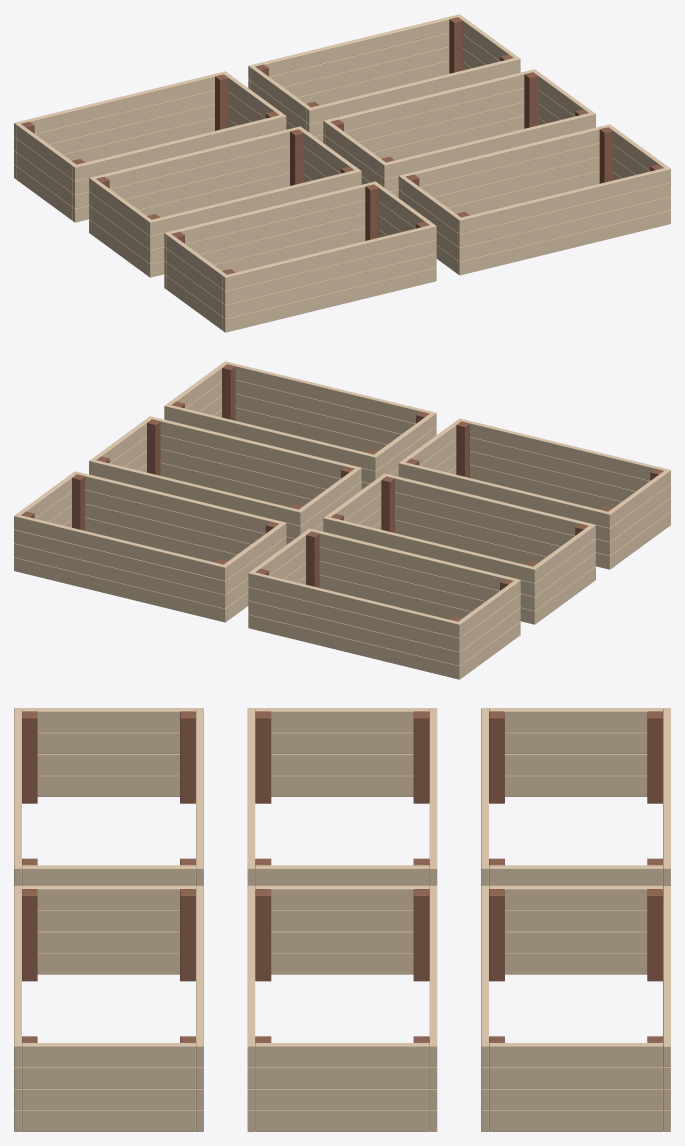
Rendered from Garden_Beds_01.glb.
3 renders of one model, top to bottom at view 1: azimuth 30°, elevation 25°; view 2: azimuth 150°, elevation 25°; view 3: azimuth 270°, elevation 25°, orthographic. The views are drawn at different scales.
Parts seen in each view (by area): view 1: 2x6in Board.294, 2x6in Board.278, 2x6in Board.310, 2x6in Board.326, 2x6in Board.342, 2x6in Board.262, 2x6in Board.328, 2x6in Board.264, 2x6in Board.296, 2x6in Board.312, 2x6in Board.280, 2x6in Board.344 (+54 smaller); view 2: 2x6in Board.280, 2x6in Board.264, 2x6in Board.312, 2x6in Board.328, 2x6in Board.296, 2x6in Board.344, 2x6in Board.310, 2x6in Board.326, 2x6in Board.294, 2x6in Board.342, 2x6in Board.262, 2x6in Board.278 (+54 smaller); view 3: 2x6in Board.329, 2x6in Board.313, 2x6in Board.345, 2x6in Board.317, 2x6in Board.321, 2x6in Board.325, 2x6in Board.327, 2x6in Board.311, 2x6in Board.343, 2x6in Board.305, 2x6in Board.337, 2x6in Board.301 (+51 smaller).
Boxes of the visible parts, bbox=[...] form: 2x6in Board.294: bbox=[72, 114, 286, 180]; 2x6in Board.278: bbox=[147, 169, 361, 235]; 2x6in Board.310: bbox=[457, 167, 670, 233]; 2x6in Board.326: bbox=[382, 112, 595, 178]; 2x6in Board.342: bbox=[307, 57, 520, 123]; 2x6in Board.262: bbox=[223, 224, 436, 290]; 2x6in Board.328: bbox=[323, 69, 536, 135]; 2x6in Board.264: bbox=[164, 181, 377, 247]; 2x6in Board.296: bbox=[14, 71, 227, 137]; 2x6in Board.312: bbox=[398, 124, 611, 190]; 2x6in Board.280: bbox=[89, 126, 302, 192]; 2x6in Board.344: bbox=[248, 14, 461, 80]; 2x6in Board.280: bbox=[323, 516, 537, 583]; 2x6in Board.264: bbox=[398, 461, 612, 527]; 2x6in Board.312: bbox=[164, 404, 377, 470]; 2x6in Board.328: bbox=[89, 459, 302, 525]; 2x6in Board.296: bbox=[248, 571, 461, 637]; 2x6in Board.344: bbox=[14, 514, 227, 580]; 2x6in Board.310: bbox=[223, 361, 436, 427]; 2x6in Board.326: bbox=[148, 416, 361, 482]; 2x6in Board.294: bbox=[307, 528, 520, 595]; 2x6in Board.342: bbox=[73, 471, 286, 537]; 2x6in Board.262: bbox=[457, 418, 670, 485]; 2x6in Board.278: bbox=[382, 473, 595, 539]; 2x6in Board.329: bbox=[255, 1043, 429, 1067]; 2x6in Board.313: bbox=[22, 1043, 195, 1067]; 2x6in Board.345: bbox=[489, 1043, 662, 1067]; 2x6in Board.317: bbox=[255, 1110, 429, 1131]; 2x6in Board.321: bbox=[255, 1088, 429, 1110]; 2x6in Board.325: bbox=[255, 1067, 429, 1088]; 2x6in Board.327: bbox=[255, 885, 429, 910]; 2x6in Board.311: bbox=[22, 885, 195, 910]; 2x6in Board.343: bbox=[489, 885, 662, 910]; 2x6in Board.305: bbox=[22, 1088, 195, 1110]; 2x6in Board.337: bbox=[489, 1088, 662, 1110]; 2x6in Board.301: bbox=[22, 1110, 195, 1131].
Bounding box in the file's own units: 5.14 × 0.6096 × 4.22.
